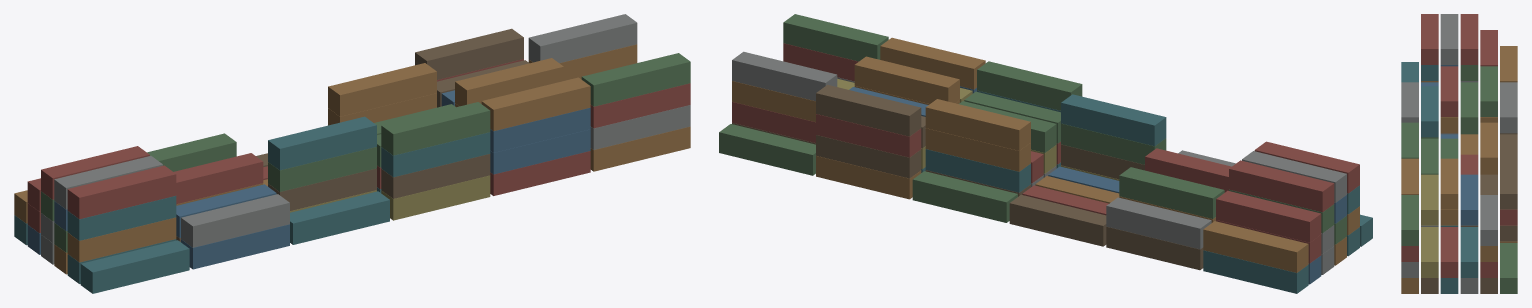
Rendered from container_stack_11.glb.
3 views of the same model, side by side, from view 1: azimuth 30°, elevation 25°; view 2: azimuth 150°, elevation 25°; view 3: azimuth 270°, elevation 25° (orthographic). The views are drawn at different scales.
Visible parts, largest first — view 1: LOD0; view 2: LOD0; view 3: LOD0.
Part boxes in pixels (box(x1,y1,x2,y2)): LOD0: box(14, 14, 690, 293); LOD0: box(719, 14, 1372, 293); LOD0: box(1401, 14, 1517, 293).
Size of what is drawn, in the model's own units: 75.2 by 10.38 by 17.1.
